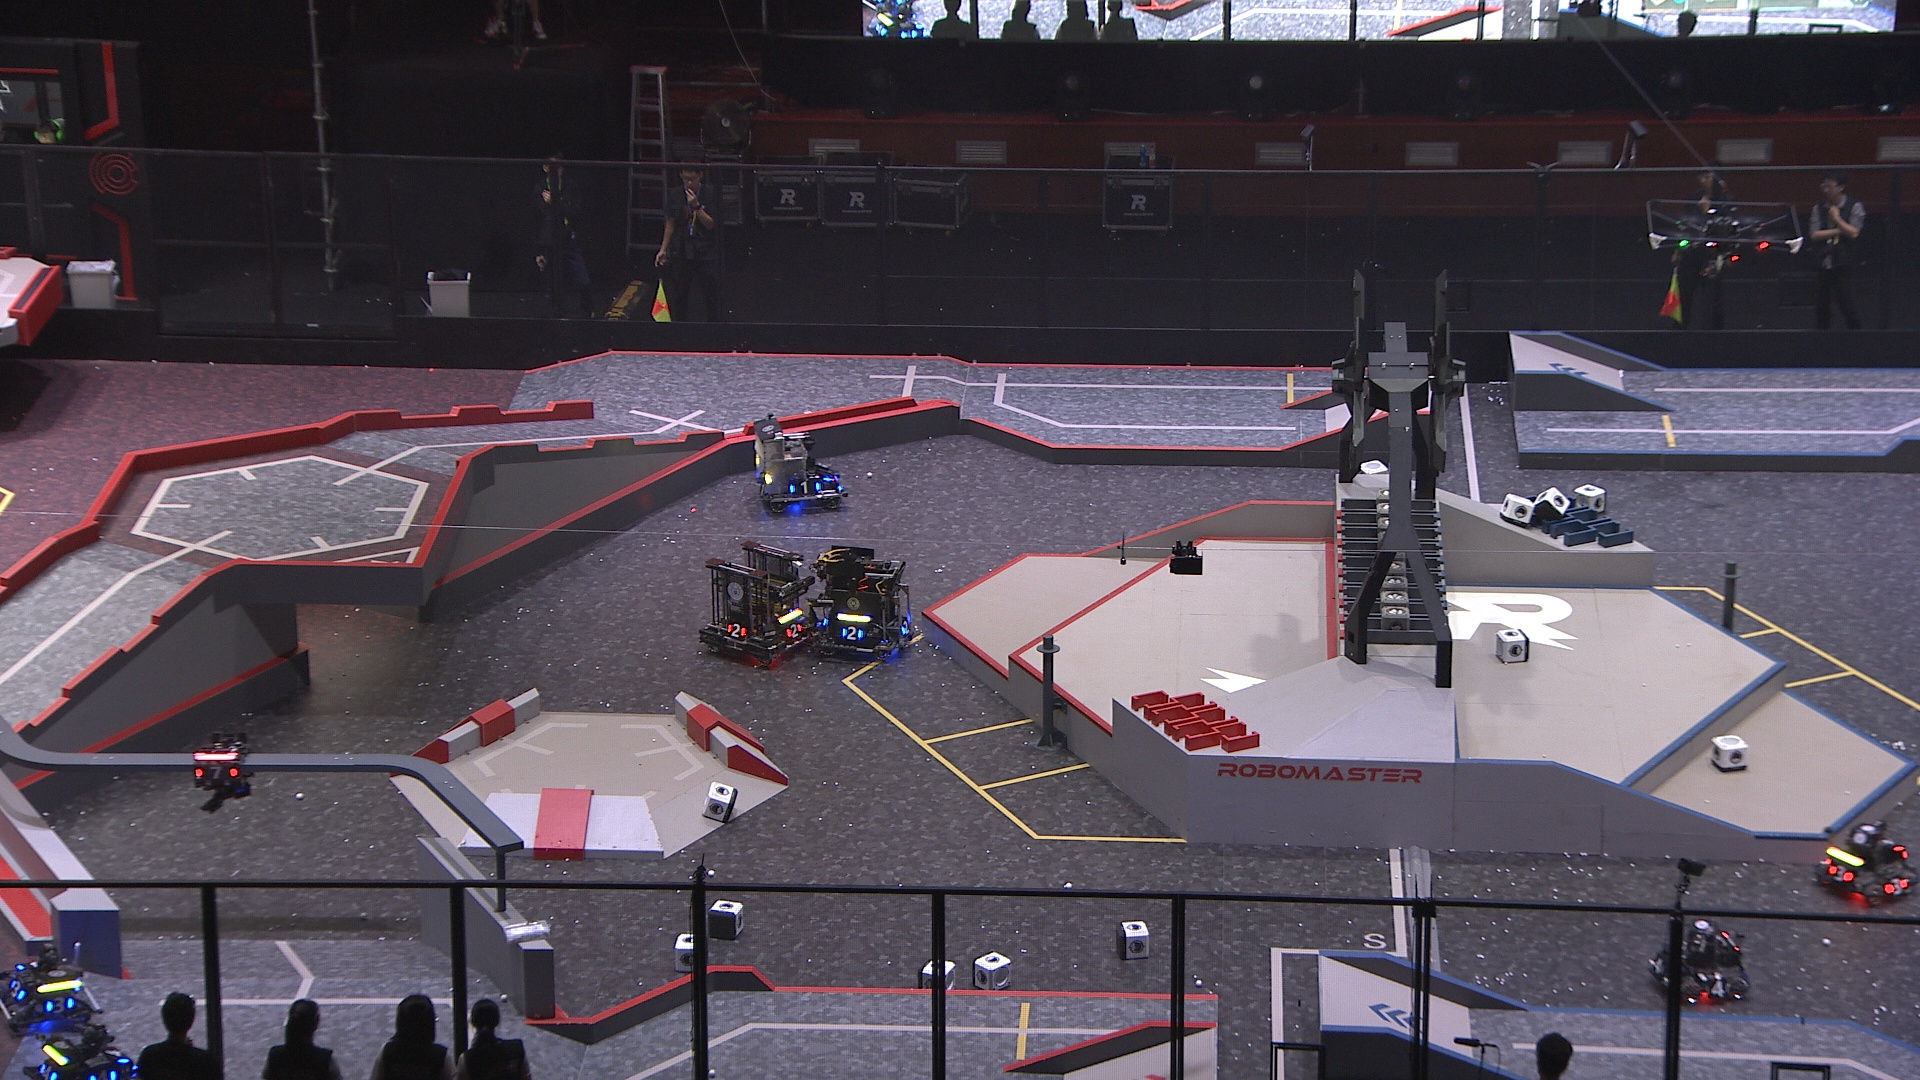armor: (191, 761, 239, 785), (1879, 876, 1911, 898), (41, 996, 76, 1015), (789, 477, 825, 496), (1826, 862, 1855, 885), (7, 975, 26, 1005), (103, 1046, 135, 1064), (1702, 978, 1731, 998), (1650, 951, 1669, 978), (840, 624, 865, 642), (36, 1062, 61, 1080), (90, 1065, 120, 1080), (724, 622, 749, 640), (897, 616, 915, 638), (787, 618, 804, 640)
car: (698, 535, 818, 665), (807, 538, 926, 659), (1644, 913, 1753, 1011), (750, 409, 851, 509), (1813, 818, 1917, 905), (22, 1025, 140, 1080)
ignore: (861, 0, 927, 41)
watcher: (187, 727, 258, 814)
